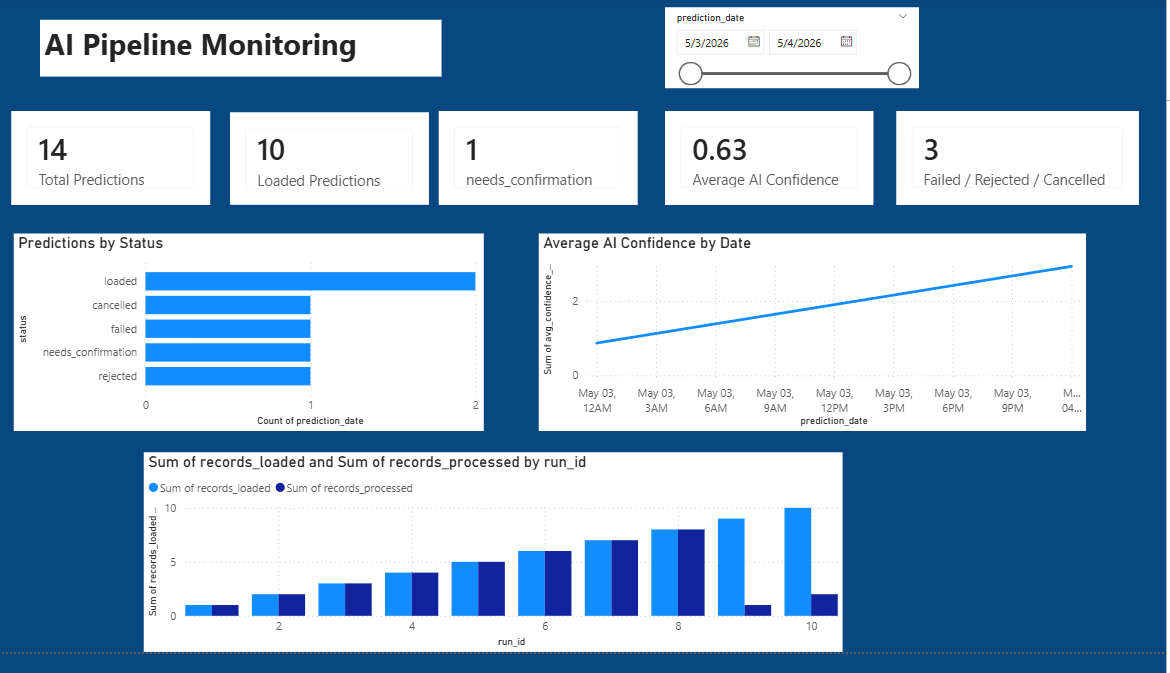

What the dashboard file says about the page in this screenshot:
{"tool":"powerbi","page":{"name":"AI Pipeline Monitoring","canvas":[1280,720],"ordinal":3},"visuals":[{"type":"slicer","fields":{"Values":["mart vw_prediction_status_summary.prediction_date"]},"box":[730,12.3,278.6,89.2],"z":0},{"type":"cardVisual","fields":{"Data":["Sum(mart vw_prediction_status_summary.prediction_count)"]},"box":[12.9,126.8,218.2,102.9],"z":1000},{"type":"cardVisual","fields":{"Data":["Sum(mart vw_prediction_status_summary.prediction_count)"]},"box":[253,128.2,218.2,101.5],"z":2000},{"type":"cardVisual","fields":{"Data":["Sum(mart vw_prediction_status_summary.prediction_count)"]},"box":[482.2,126.8,218.2,102.9],"z":3000},{"type":"cardVisual","fields":{"Data":["Avg(mart vw_prediction_status_summary.avg_confidence_score)"]},"box":[730.6,126.8,229.2,102.9],"z":4000},{"type":"clusteredBarChart","title":"Predictions by Status","fields":{"Category":["mart vw_prediction_status_summary.status"],"Y":["CountNonNull(mart vw_prediction_status_summary.prediction_date)"]},"box":[15.1,260.7,516,216.8],"z":5000},{"type":"lineChart","title":"Average AI Confidence by Date","fields":{"Category":["mart vw_prediction_status_summary.prediction_date"],"Y":["Sum(mart vw_prediction_status_summary.avg_confidence_score)"]},"box":[591.4,260.7,601,216.8],"z":6000},{"type":"clusteredColumnChart","fields":{"Category":["mart vw_pipeline_monitoring.run_id"],"Y":["Sum(mart vw_pipeline_monitoring.records_loaded)","Sum(mart vw_pipeline_monitoring.records_processed)"]},"box":[157.8,500.9,767.1,219.6],"z":7000},{"type":"cardVisual","fields":{"Data":["Sum(mart vw_prediction_status_summary.prediction_count)"]},"box":[984.4,126.8,266.2,102.9],"z":8000},{"type":"textbox","box":[43.9,26.7,440.8,62.7],"z":9000}]}

Visuals, with their boxes in screenshot pixels (x1, y1, x2, y2), scaled from the page's 1280x720 canvas onto the 1170x673 screenshot:
slicer - mart vw_prediction_status_summary.prediction_date: 667, 11, 922, 95
cardVisual - Sum(mart vw_prediction_status_summary.prediction_count): 12, 119, 211, 215
cardVisual - Sum(mart vw_prediction_status_summary.prediction_count): 231, 120, 431, 215
cardVisual - Sum(mart vw_prediction_status_summary.prediction_count): 441, 119, 640, 215
cardVisual - Avg(mart vw_prediction_status_summary.avg_confidence_score): 668, 119, 877, 215
"Predictions by Status" clusteredBarChart: 14, 244, 485, 446
"Average AI Confidence by Date" lineChart: 541, 244, 1090, 446
clusteredColumnChart - mart vw_pipeline_monitoring.run_id x Sum(mart vw_pipeline_monitoring.records_loaded): 144, 468, 845, 672
cardVisual - Sum(mart vw_prediction_status_summary.prediction_count): 900, 119, 1143, 215
textbox: 40, 25, 443, 84
